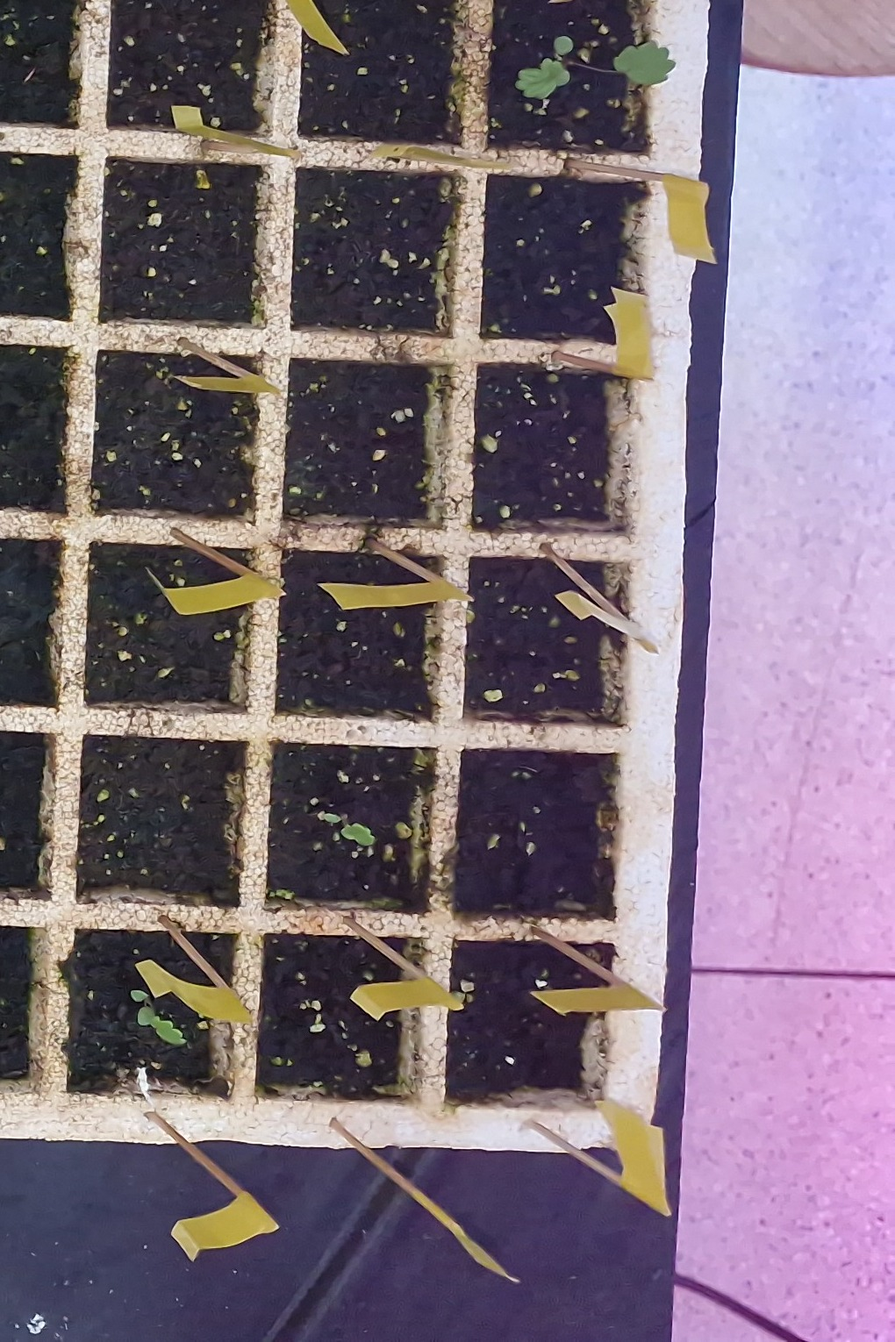Folha: (614, 40, 676, 85), (515, 68, 556, 99), (541, 57, 570, 85), (341, 822, 375, 845), (554, 36, 573, 55), (324, 813, 340, 823)
Germinacao: (515, 36, 675, 99), (323, 814, 375, 845)
